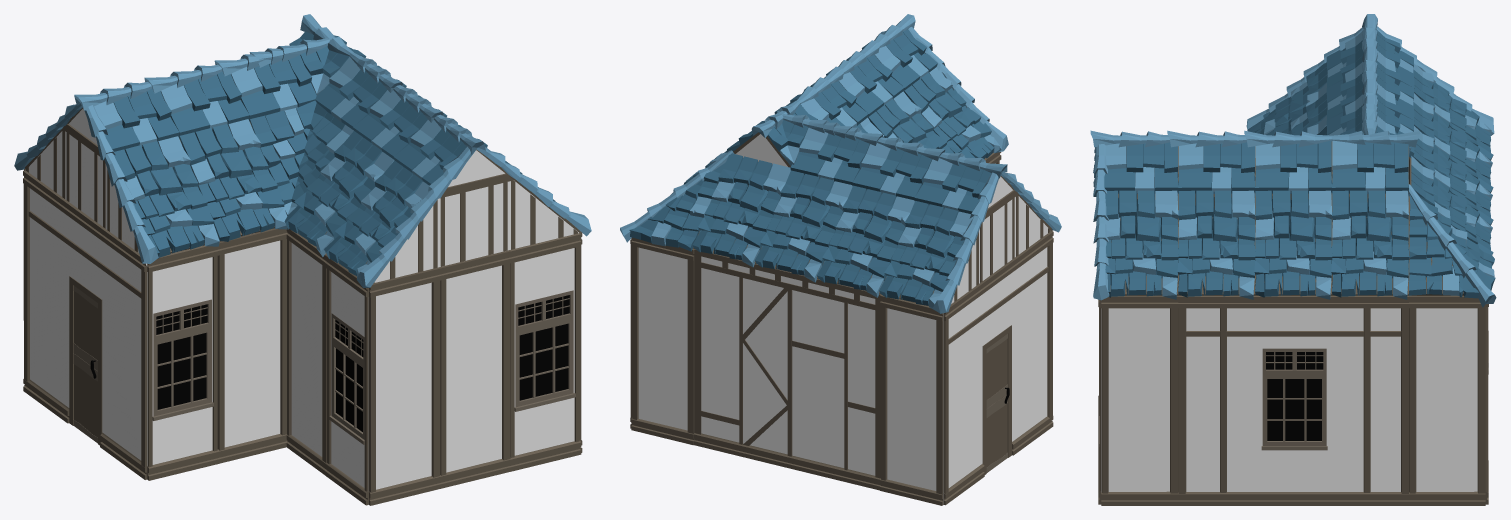
Rendered from house_11_full.fbx.
The picture shows the model from 3 angles, left to right: view 1: azimuth 30°, elevation 25°; view 2: azimuth 150°, elevation 25°; view 3: azimuth 270°, elevation 25°; orthographic projection. The views are drawn at different scales.
Parts seen in each view (by area): view 1: DOOR_05_2, WALL_03_8, WALL_03_7, WINDOW_04_5, WINDOW_04_3, WALL_03_10, WINDOW_04_4, WALL_03_9, ROOF_base_4, ROOF_base_3, ROOF_inner_corner_3, ROOF_base_5 (+29 smaller); view 2: WALL_05_2, DOOR_05_2, WALL_03_3, WALL_03_4, ROOF_base_14, ROOF_base_13, ROOF_base_12, ROOF_base_11, ROOF_corner_out_2, ROOF_base_6, ROOF_base_small_15, ROOF_base_small_16 (+23 smaller); view 3: WINDOW_03_2, WALL_03_6, WALL_03_5, ROOF_base_8, ROOF_base_9, ROOF_base_10, ROOF_base_7, ROOF_corner_out_2, ROOF_base_small_13, ROOF_base_small_12, ROOF_base_small_11, ROOF_base_small_10 (+24 smaller).
Part boxes in pixels (x1=…): DOOR_05_2: x1=23, y1=170, x2=147, y2=479; WALL_03_8: x1=369, y1=267, x2=440, y2=505; WALL_03_7: x1=439, y1=250, x2=510, y2=488; WINDOW_04_5: x1=147, y1=245, x2=219, y2=480; WINDOW_04_3: x1=509, y1=233, x2=581, y2=471; WALL_03_10: x1=217, y1=228, x2=287, y2=463; WINDOW_04_4: x1=325, y1=255, x2=368, y2=505; WALL_03_9: x1=286, y1=228, x2=326, y2=475; ROOF_base_4: x1=179, y1=119, x2=287, y2=241; ROOF_base_3: x1=114, y1=136, x2=219, y2=258; ROOF_inner_corner_3: x1=250, y1=100, x2=353, y2=215; ROOF_base_5: x1=284, y1=131, x2=394, y2=256; WALL_05_2: x1=693, y1=249, x2=880, y2=490; DOOR_05_2: x1=943, y1=231, x2=1053, y2=505; WALL_03_3: x1=880, y1=294, x2=943, y2=505; WALL_03_4: x1=631, y1=237, x2=694, y2=445; ROOF_base_14: x1=692, y1=153, x2=790, y2=267; ROOF_base_13: x1=754, y1=170, x2=852, y2=282; ROOF_base_12: x1=817, y1=185, x2=914, y2=297; ROOF_base_11: x1=879, y1=201, x2=973, y2=311; ROOF_corner_out_2: x1=620, y1=150, x2=734, y2=251; ROOF_base_6: x1=904, y1=67, x2=999, y2=158; ROOF_base_small_15: x1=852, y1=143, x2=931, y2=200; ROOF_base_small_16: x1=790, y1=127, x2=869, y2=185; WINDOW_03_2: x1=1178, y1=295, x2=1408, y2=505; WALL_03_6: x1=1101, y1=295, x2=1178, y2=505; WALL_03_5: x1=1409, y1=295, x2=1485, y2=505; ROOF_base_8: x1=1177, y1=190, x2=1255, y2=299; ROOF_base_9: x1=1254, y1=188, x2=1332, y2=299; ROOF_base_10: x1=1331, y1=190, x2=1409, y2=299; ROOF_base_7: x1=1101, y1=190, x2=1178, y2=299; ROOF_corner_out_2: x1=1408, y1=184, x2=1496, y2=307; ROOF_base_small_13: x1=1332, y1=140, x2=1408, y2=193; ROOF_base_small_12: x1=1255, y1=140, x2=1332, y2=193; ROOF_base_small_11: x1=1178, y1=142, x2=1255, y2=193; ROOF_base_small_10: x1=1104, y1=142, x2=1178, y2=193.
Size of the model in its own units: 535 by 465 by 528.
